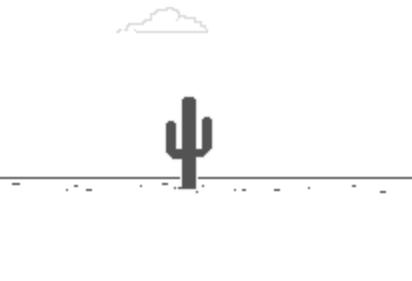cactus: (161, 91, 217, 197)
